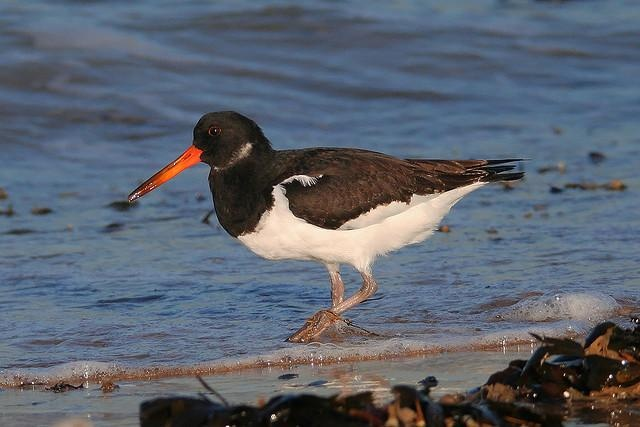bird: (120, 104, 531, 336)
